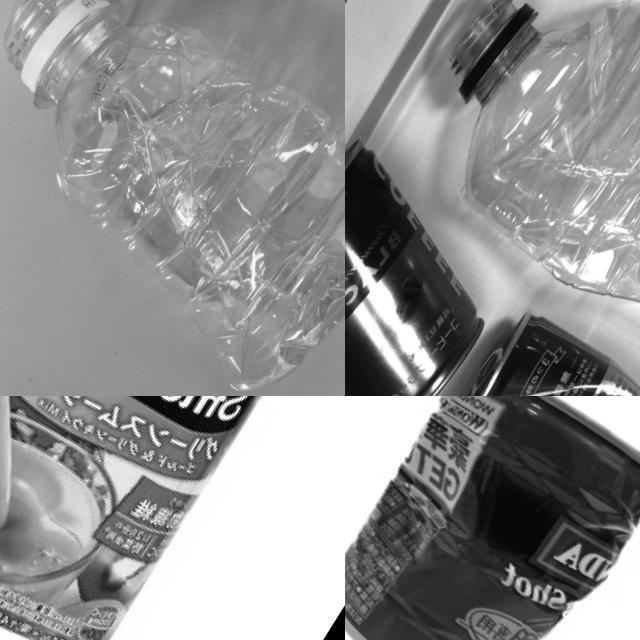Aluminium Foil: (0, 396, 345, 640), (345, 396, 640, 640)
Can: (345, 136, 522, 396), (410, 303, 640, 396)
Transparent Plastic Bottle: (0, 0, 345, 396), (390, 0, 640, 371)
